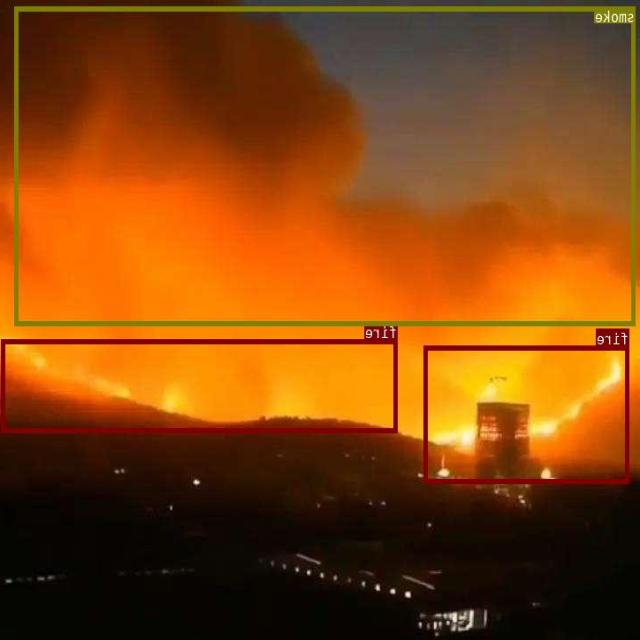fire: (2, 338, 398, 432), (425, 345, 630, 483)
smoke: (15, 6, 636, 325)
